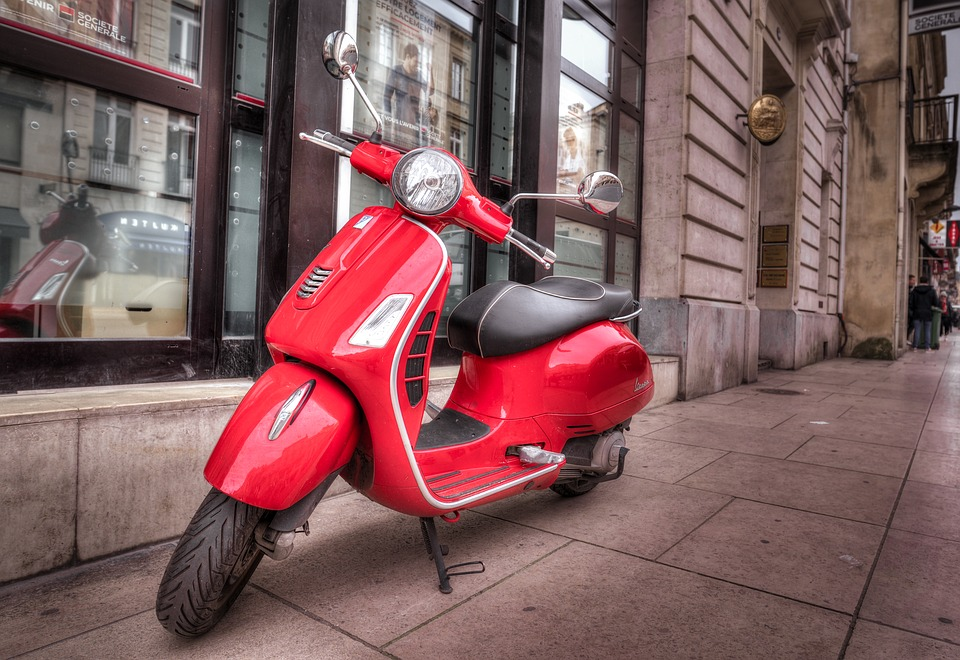motorcycle: (158, 128, 654, 631)
